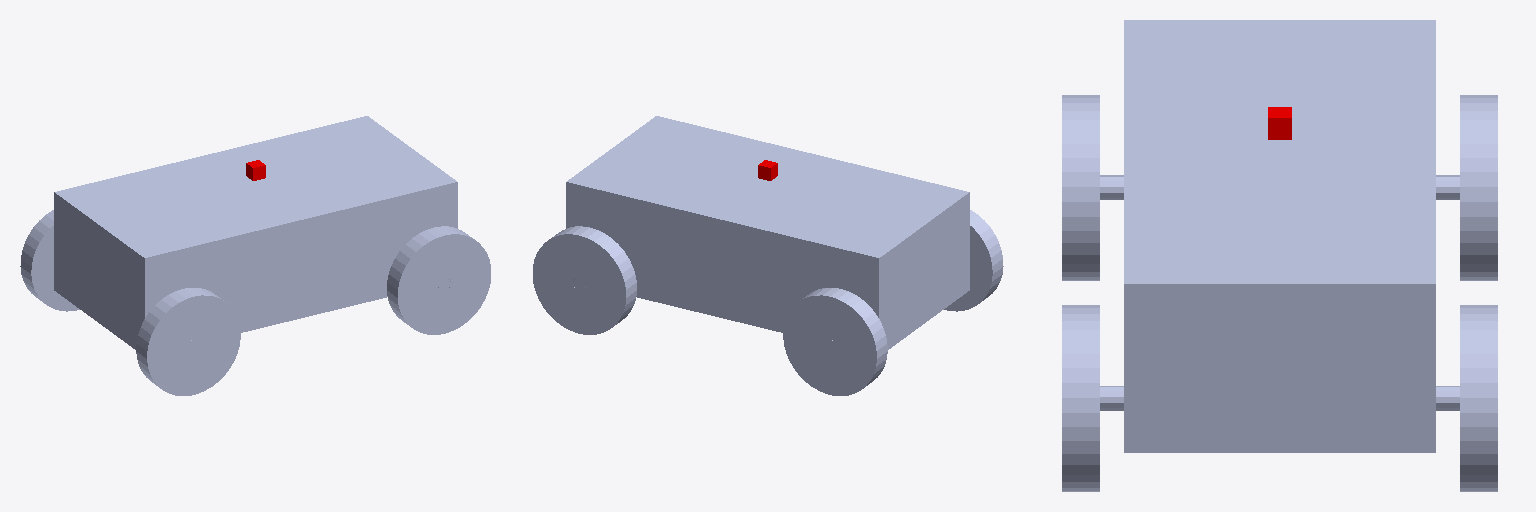
URDF robot description (Assem2.SLDASM):
<?xml version="1.0" encoding="utf-8"?>
<robot
  name="Assem2.SLDASM" >
  <link
    name="base_link">
    <inertial>
      <origin
        xyz="-6.9231E-17 -2.9198E-17 -0.00016699"
        rpy="0 0 0" />
      <mass
        value="18.813" />
      <inertia
        ixx="0.1344"
        ixy="3.2823E-18"
        ixz="1.4271E-18"
        iyy="0.42845"
        iyz="3.8622E-19"
        izz="0.49222" />
    </inertial>
    <visual>
      <origin
        xyz="0 0 0"
        rpy="0 0 0" />
      <geometry>
        <mesh
          filename="package://robot_description/meshes/visual/base_link.STL" />
      </geometry>
      <material
        name="">
        <color
          rgba="0.79216 0.81961 0.93333 1" />
      </material>
    </visual>
    <collision>
      <origin
        xyz="0 0 0"
        rpy="0 0 0" />
      <geometry>
        <mesh
          filename="package://robot_description/meshes/visual/base_link.STL" />
      </geometry>
    </collision>
  </link>
  <link
    name="br_Link">
    <inertial>
      <origin
        xyz="-2.7756E-17 0.015 1.3878E-16"
        rpy="0 0 0" />
      <mass
        value="0.52072" />
      <inertia
        ixx="0.00078433"
        ixy="-2.1839E-36"
        ixz="1.8617E-35"
        iyy="0.0014906"
        iyz="2.4726E-18"
        izz="0.00078433" />
    </inertial>
    <visual>
      <origin
        xyz="0 0 0"
        rpy="0 0 0" />
      <geometry>
        <mesh
          filename="package://robot_description/meshes/visual/br_Link.STL" />
      </geometry>
      <material
        name="">
        <color
          rgba="0.79216 0.81961 0.93333 1" />
      </material>
    </visual>
    <collision>
      <origin
        xyz="0 0 0"
        rpy="0 0 0" />
      <geometry>
        <mesh
          filename="package://robot_description/meshes/visual/br_Link.STL" />
      </geometry>
    </collision>
  </link>
  <joint
    name="br-joint"
    type="continuous">
    <origin
      xyz="-0.2 -0.175 -0.05"
      rpy="0 0 0" />
    <parent
      link="base_link" />
    <child
      link="br_Link" />
    <axis
      xyz="0 1 0" />
  </joint>
  <link
    name="bl_Link">
    <inertial>
      <origin
        xyz="-2.7756E-17 -0.015 -3.1225E-17"
        rpy="0 0 0" />
      <mass
        value="0.52072" />
      <inertia
        ixx="0.00078433"
        ixy="3.341E-49"
        ixz="1.8617E-35"
        iyy="0.0014906"
        iyz="2.4726E-18"
        izz="0.00078433" />
    </inertial>
    <visual>
      <origin
        xyz="0 0 0"
        rpy="0 0 0" />
      <geometry>
        <mesh
          filename="package://robot_description/meshes/visual/bl_Link.STL" />
      </geometry>
      <material
        name="">
        <color
          rgba="0.79216 0.81961 0.93333 1" />
      </material>
    </visual>
    <collision>
      <origin
        xyz="0 0 0"
        rpy="0 0 0" />
      <geometry>
        <mesh
          filename="package://robot_description/meshes/visual/bl_Link.STL" />
      </geometry>
    </collision>
  </link>
  <joint
    name="bl-joint"
    type="continuous">
    <origin
      xyz="-0.2 0.175 -0.05"
      rpy="0 0 0" />
    <parent
      link="base_link" />
    <child
      link="bl_Link" />
    <axis
      xyz="0 1 0" />
  </joint>
  <link
    name="fr_Link">
    <inertial>
      <origin
        xyz="-5.5511E-17 0.015 1.1796E-16"
        rpy="0 0 0" />
      <mass
        value="0.52072" />
      <inertia
        ixx="0.00078433"
        ixy="1.173E-36"
        ixz="-1.7997E-39"
        iyy="0.0014906"
        iyz="2.4726E-18"
        izz="0.00078433" />
    </inertial>
    <visual>
      <origin
        xyz="0 0 0"
        rpy="0 0 0" />
      <geometry>
        <mesh
          filename="package://robot_description/meshes/visual/fr_Link.STL" />
      </geometry>
      <material
        name="">
        <color
          rgba="0.79216 0.81961 0.93333 1" />
      </material>
    </visual>
    <collision>
      <origin
        xyz="0 0 0"
        rpy="0 0 0" />
      <geometry>
        <mesh
          filename="package://robot_description/meshes/visual/fr_Link.STL" />
      </geometry>
    </collision>
  </link>
  <joint
    name="fr-joint"
    type="continuous">
    <origin
      xyz="0.2 -0.175 -0.05"
      rpy="0 0 0" />
    <parent
      link="base_link" />
    <child
      link="fr_Link" />
    <axis
      xyz="0 1 0" />
  </joint>
  <link
    name="fl_Link">
    <inertial>
      <origin
        xyz="2.7756E-17 -0.015 -4.8572E-17"
        rpy="0 0 0" />
      <mass
        value="0.52072" />
      <inertia
        ixx="0.00078433"
        ixy="-2.1839E-36"
        ixz="1.8617E-35"
        iyy="0.0014906"
        iyz="2.4726E-18"
        izz="0.00078433" />
    </inertial>
    <visual>
      <origin
        xyz="0 0 0"
        rpy="0 0 0" />
      <geometry>
        <mesh
          filename="package://robot_description/meshes/visual/fl_Link.STL" />
      </geometry>
      <material
        name="">
        <color
          rgba="0.79216 0.81961 0.93333 1" />
      </material>
    </visual>
    <collision>
      <origin
        xyz="0 0 0"
        rpy="0 0 0" />
      <geometry>
        <mesh
          filename="package://robot_description/meshes/visual/fl_Link.STL" />
      </geometry>
    </collision>
  </link>
  <joint
    name="fl-joint"
    type="continuous">
    <origin
      xyz="0.2 0.175 -0.05"
      rpy="0 0 0" />
    <parent
      link="base_link" />
    <child
      link="fl_Link" />
    <axis
      xyz="0 1 0" />
  </joint>

  <link name="lidar2d_link">
    <inertial>
      <origin xyz="0.0 0.0 0.0" rpy="0.0 0.0 0.0"/>
      <mass value="0.2"/>
      <inertia ixx="0.0" ixy="0.0" ixz="0.0" iyy="0.0" iyz="0.0" izz="0.0"/>
    </inertial>
    <visual name="">
      <origin xyz="0.0 0.0 0.0" rpy="0.0 0.0 0.0"/>
      <geometry>
        <box size="0.02 0.02 0.02"/>
      </geometry>
      <material name="">
        <color rgba="1.0 0.0 0.0 1.0"/>
        <texture filename=""/>
      </material>
    </visual>
    <collision>
      <origin xyz="0.0 0.0 0.0" rpy="0.0 0.0 0.0"/>
      <geometry>
        <box size="0.02 0.02 0.02"/>
      </geometry>
    </collision>
  </link>
  <joint name="lidar2d_joint" type="fixed">
    <parent link="base_link"/>
    <child link="lidar2d_link"/>
    <origin xyz="0.0 0.0 0.1" rpy="0.0 0.0 0.0"/>
  </joint>
  

  <gazebo>
    <plugin
        filename="gz-sim-diff-drive-system"
        name="gz::sim::systems::DiffDrive">
        <!-- Topic for the command input -->
        <topic>/cmd_vel</topic>

        <!-- Wheel joints -->
        <left_joint>fl-joint</left_joint>
        <left_joint>bl-joint</left_joint>
        <right_joint>fr-joint</right_joint>
        <right_joint>br-joint</right_joint>

        <!-- Wheel parameters -->
        <wheel_separation>0.45</wheel_separation>
        <wheel_radius>0.1</wheel_radius> 

        <!-- Control gains and limits (optional) -->
        <max_velocity>3.0</max_velocity> 
        <max_linear_acceleration>1</max_linear_acceleration>
        <min_linear_acceleration>-1</min_linear_acceleration>
        <max_angular_acceleration>2</max_angular_acceleration>
        <min_angular_acceleration>-2</min_angular_acceleration>
        <max_linear_velocity>0.5</max_linear_velocity>
        <min_linear_velocity>-0.5</min_linear_velocity>
        <max_angular_velocity>1</max_angular_velocity>
        <min_angular_velocity>-1</min_angular_velocity>
        
        <!-- Other parameters (optional) -->
        <odom_topic>odom</odom_topic> 
        <tf_topic>tf</tf_topic>
        <frame_id>odom</frame_id>
        <child_frame_id>base_link</child_frame_id>
        <odom_publish_frequency>60</odom_publish_frequency>
    </plugin>

    <plugin
        filename="gz-sim-joint-state-publisher-system"
        name="gz::sim::systems::JointStatePublisher">
        <topic>joint_states</topic>
        <joint_name>fl-joint</joint_name>
        <joint_name>fr-joint</joint_name>
        <joint_name>bl-joint</joint_name>
        <joint_name>br-joint</joint_name>
    </plugin>
  </gazebo>

</robot>

--- Facts derived from the render (not from the file) ---
3 views of the same robot in one strip: view 1: azimuth 30°, elevation 25°; view 2: azimuth 150°, elevation 25°; view 3: azimuth 270°, elevation 25° (orthographic).
Model Assem2.SLDASM with 6 links and 5 joints (4 continuous, 1 fixed), rooted at base_link, posed all joints at 0.
Links seen in each view (by area): view 1: base_link, br_Link, fr_Link, bl_Link; view 2: base_link, bl_Link, fl_Link, br_Link; view 3: base_link, fr_Link, fl_Link, br_Link, bl_Link, lidar2d_link.
Link boxes in pixels (x1,y1,x2,y2): base_link: [54, 116, 457, 351]; br_Link: [136, 288, 240, 395]; fr_Link: [387, 226, 490, 334]; bl_Link: [20, 210, 79, 311]; base_link: [566, 116, 969, 351]; bl_Link: [783, 288, 887, 395]; fl_Link: [533, 226, 636, 334]; br_Link: [944, 210, 1003, 311]; base_link: [1100, 20, 1459, 452]; fr_Link: [1062, 305, 1099, 491]; fl_Link: [1460, 305, 1497, 491]; br_Link: [1062, 95, 1099, 280]; bl_Link: [1460, 95, 1497, 280]; lidar2d_link: [1268, 107, 1291, 139].
Size in the robot's own frame: 0.5499 by 0.35 by 0.235 metres.
Meshes: 5 distinct files referenced, 5 mesh visuals loaded (5 binary STL).